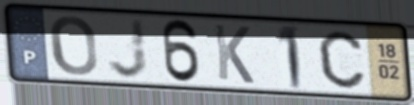1: (275, 23, 305, 91)
6: (159, 17, 202, 85)
C: (315, 29, 367, 91)
J: (106, 16, 151, 81)
K: (211, 21, 256, 86)
O: (48, 14, 100, 78)
